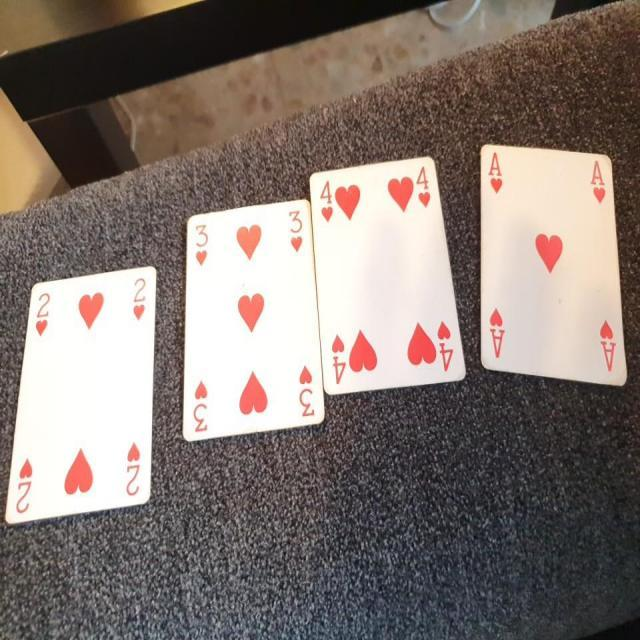2 of hearts: (1, 258, 174, 529)
3 of hearts: (181, 197, 325, 450)
4 of hearts: (305, 154, 477, 406)
ace of hearts: (466, 136, 638, 406)
